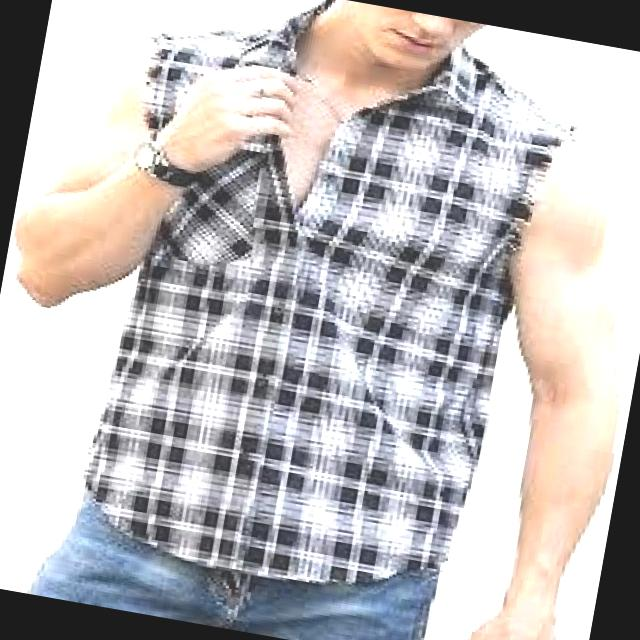no_vest: (61, 0, 594, 618)
